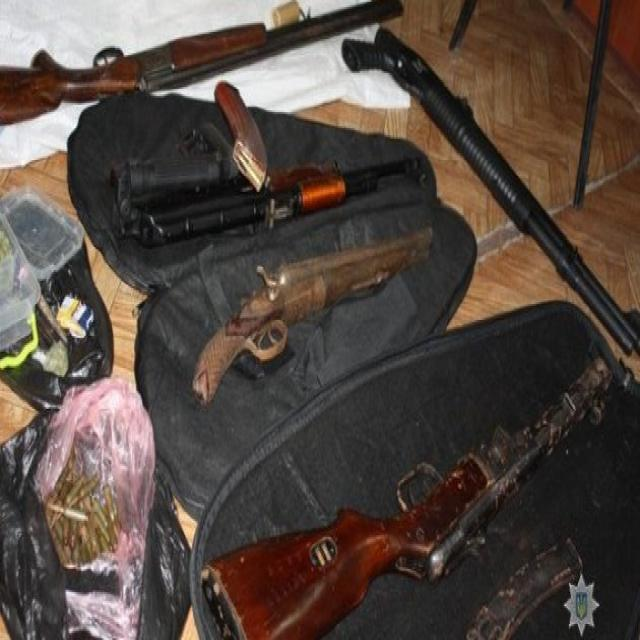firearm: (201, 356, 611, 640), (343, 27, 638, 361), (0, 0, 406, 129), (193, 226, 435, 402), (108, 142, 428, 258)
